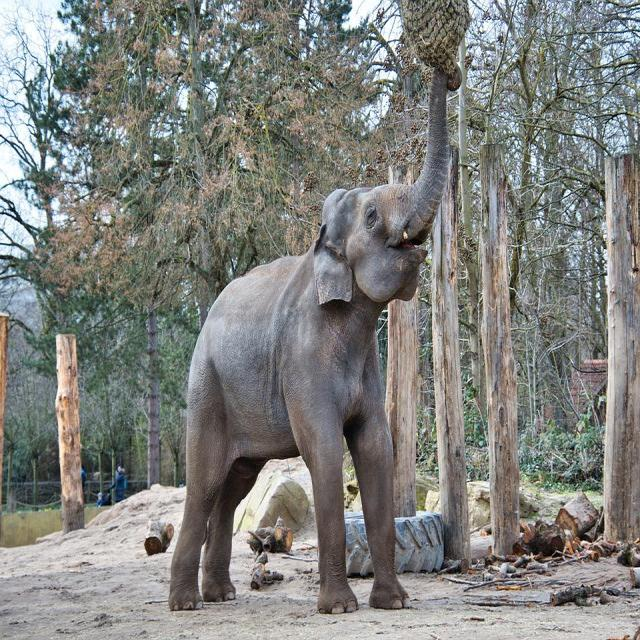Elephant: (167, 69, 447, 615)
